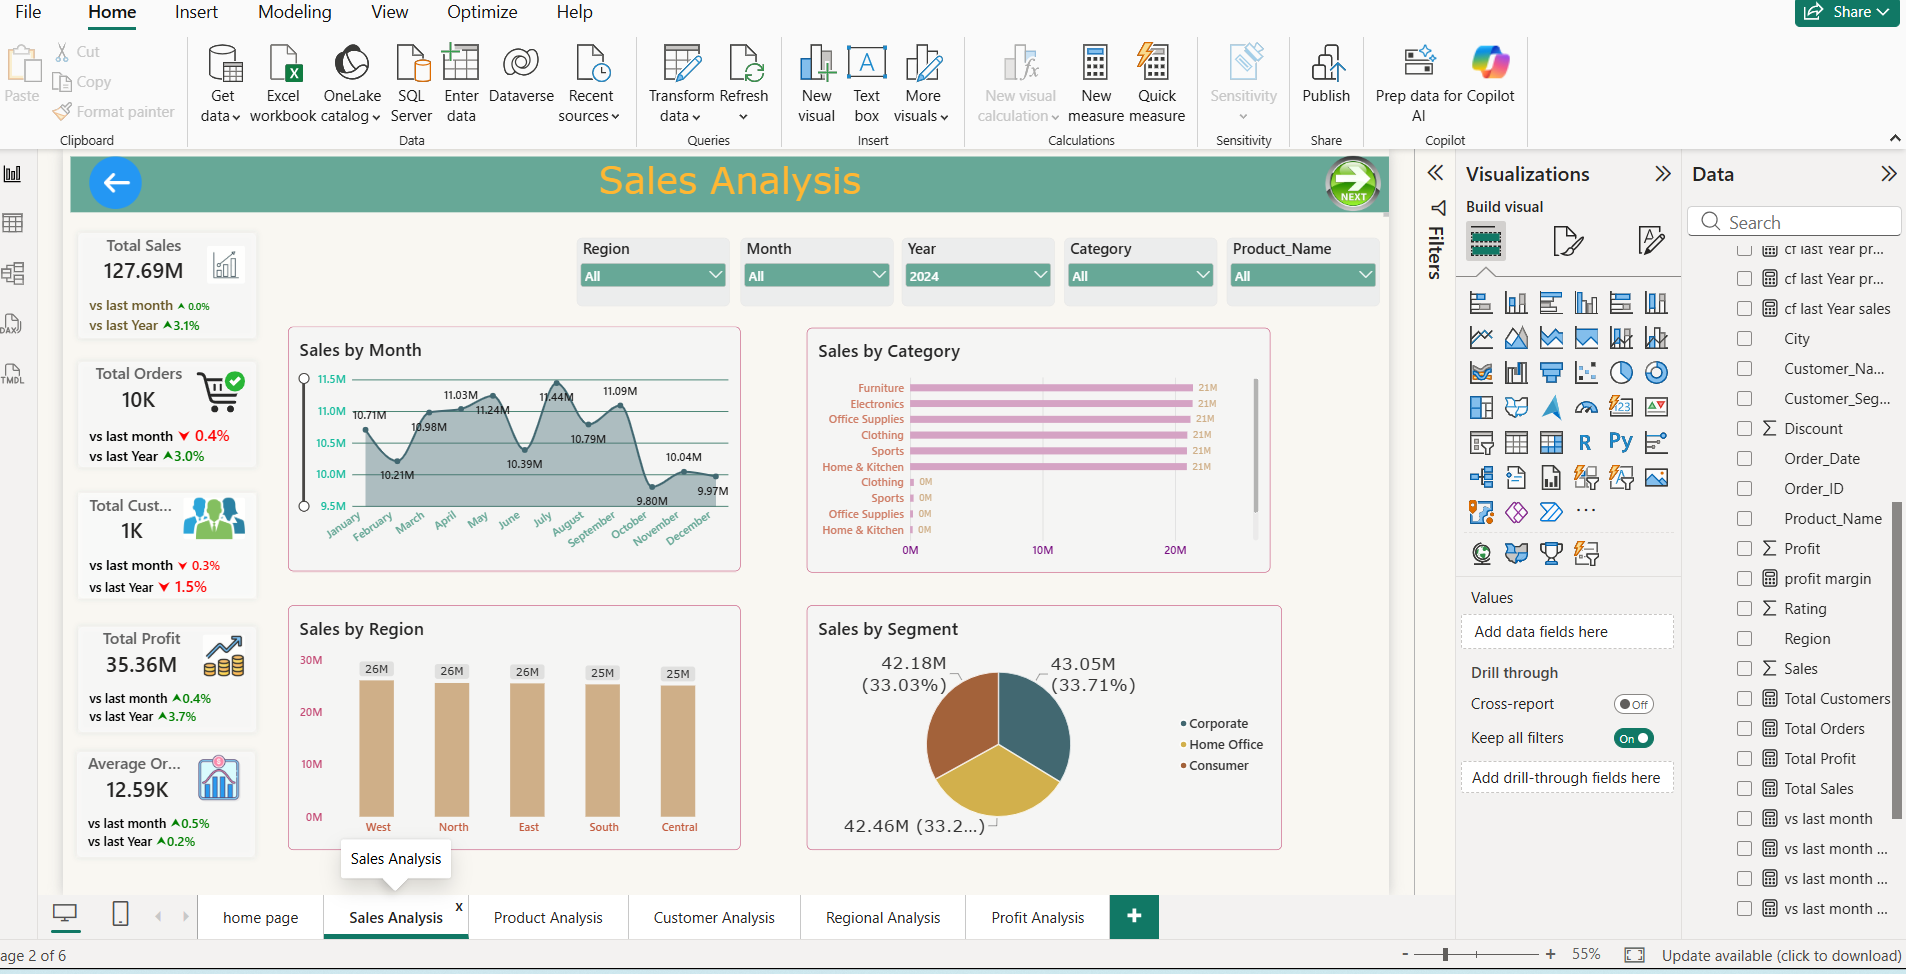

The page's visual inventory and layout, read from the dashboard file:
{"tool":"powerbi","page":{"name":"Sales Analysis","canvas":[1920,1080],"ordinal":1},"visuals":[{"type":"textbox","box":[10.9,0,1940,97.7],"z":0},{"type":"textbox","title":"Sales Analysis","box":[10.9,10.9,1909.2,86.9],"z":1000},{"type":"cardVisual","fields":{"Data":["Table1.Total Sales"]},"box":[11,110.1,280.5,175],"z":2000},{"type":"cardVisual","fields":{"Data":["Table1.Total Orders"]},"box":[11,297.1,280.5,175],"z":3000},{"type":"cardVisual","fields":{"Data":["Table1.Total Customers"]},"box":[11,486.1,280.5,175],"z":4000},{"type":"cardVisual","fields":{"Data":["Table1.Total Profit"]},"box":[11,680.5,280.5,175],"z":5000},{"type":"cardVisual","fields":{"Data":["Table1.Average Order Value"]},"box":[9.2,862.1,280.5,175],"z":6000},{"type":"clusteredBarChart","title":"Sales by Category","fields":{"Category":["Table1.Category"],"Y":["Table1.Total Sales"]},"box":[1076.7,258.6,671.4,354.7],"z":7000},{"type":"lineChart","title":"Sales by Month","fields":{"Category":["date table.Month"],"Y":["Table1.Total Sales"]},"box":[326.5,256.8,655.1,354.7],"z":8000},{"type":"columnChart","title":"Sales by Region","fields":{"Category":["Table1.Region"],"Y":["Table1.Total Sales"]},"box":[326.5,660.3,655.1,354],"z":9000},{"type":"slicer","fields":{"Values":["date table.Month"]},"box":[981.3,128.4,221.9,99],"z":10000},{"type":"slicer","fields":{"Values":["date table.Year"]},"box":[1214.3,128.4,221.9,99],"z":11000},{"type":"slicer","fields":{"Values":["Table1.Region"]},"box":[742.9,128.4,221.9,99],"z":12000},{"type":"slicer","fields":{"Values":["Table1.Category"]},"box":[1449.1,128.4,221.9,99],"z":13000},{"type":"slicer","fields":{"Values":["Table1.Product_Name"]},"box":[1685.7,128.4,221.9,99],"z":14000},{"type":"image","box":[23.5,10.9,105,76],"z":15000},{"type":"pieChart","title":"Sales by Segment","fields":{"Category":["Table1.Customer_Segment"],"Y":["Table1.Total Sales"]},"box":[1076.7,660.5,687.7,354.7],"z":16000},{"type":"image","box":[1815.1,0,105,110.4],"z":17000}]}

Visuals, with their boxes on the page's 1920x1080 design canvas (x1, y1, x2, y2). These are canvas units, not pixel positions in the 1906x974 screenshot, which may show the page scaled, cropped or inside an application window:
textbox: Rect(11, 0, 1951, 98)
"Sales Analysis" textbox: Rect(11, 11, 1920, 98)
cardVisual - Table1.Total Sales: Rect(11, 110, 292, 285)
cardVisual - Table1.Total Orders: Rect(11, 297, 292, 472)
cardVisual - Table1.Total Customers: Rect(11, 486, 292, 661)
cardVisual - Table1.Total Profit: Rect(11, 680, 292, 856)
cardVisual - Table1.Average Order Value: Rect(9, 862, 290, 1037)
"Sales by Category" clusteredBarChart: Rect(1077, 259, 1748, 613)
"Sales by Month" lineChart: Rect(326, 257, 982, 612)
"Sales by Region" columnChart: Rect(326, 660, 982, 1014)
slicer - date table.Month: Rect(981, 128, 1203, 227)
slicer - date table.Year: Rect(1214, 128, 1436, 227)
slicer - Table1.Region: Rect(743, 128, 965, 227)
slicer - Table1.Category: Rect(1449, 128, 1671, 227)
slicer - Table1.Product_Name: Rect(1686, 128, 1908, 227)
image: Rect(24, 11, 128, 87)
"Sales by Segment" pieChart: Rect(1077, 660, 1764, 1015)
image: Rect(1815, 0, 1920, 110)
